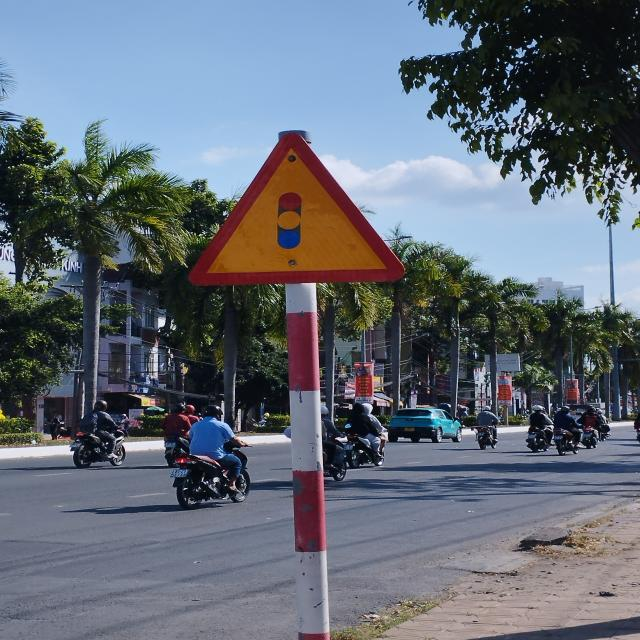Duong_Co_Go_Giam_Toc: (185, 128, 410, 287)
